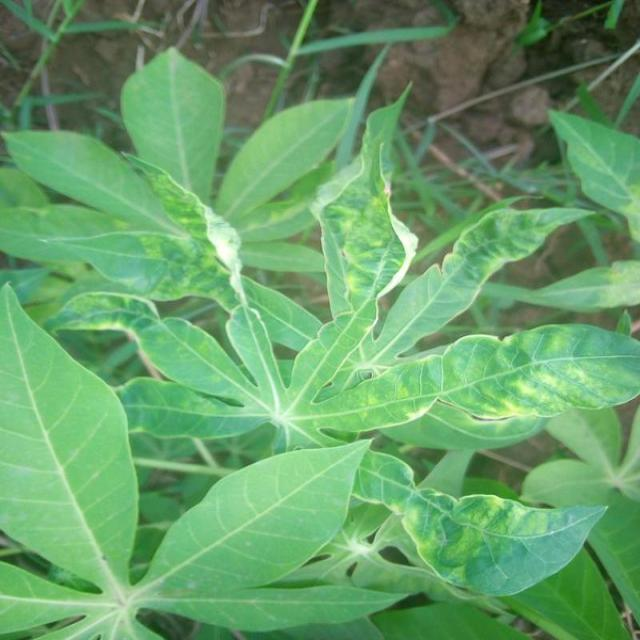cassava leaf: (1, 46, 638, 637), (0, 280, 139, 595)
